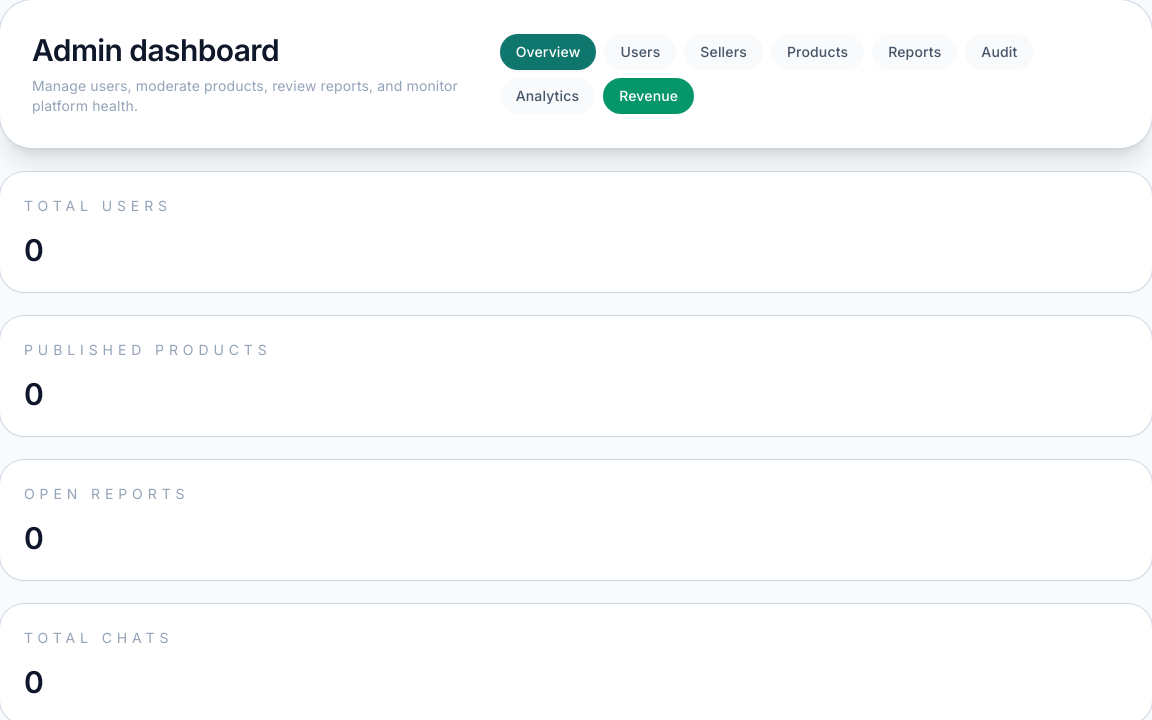
Test: AdminDashboardPage › renders a numbered first column in the users table
This screenshot has width=1152, height=720.
Click the button "Users".
click(640, 52)  # box [604,34,676,70]
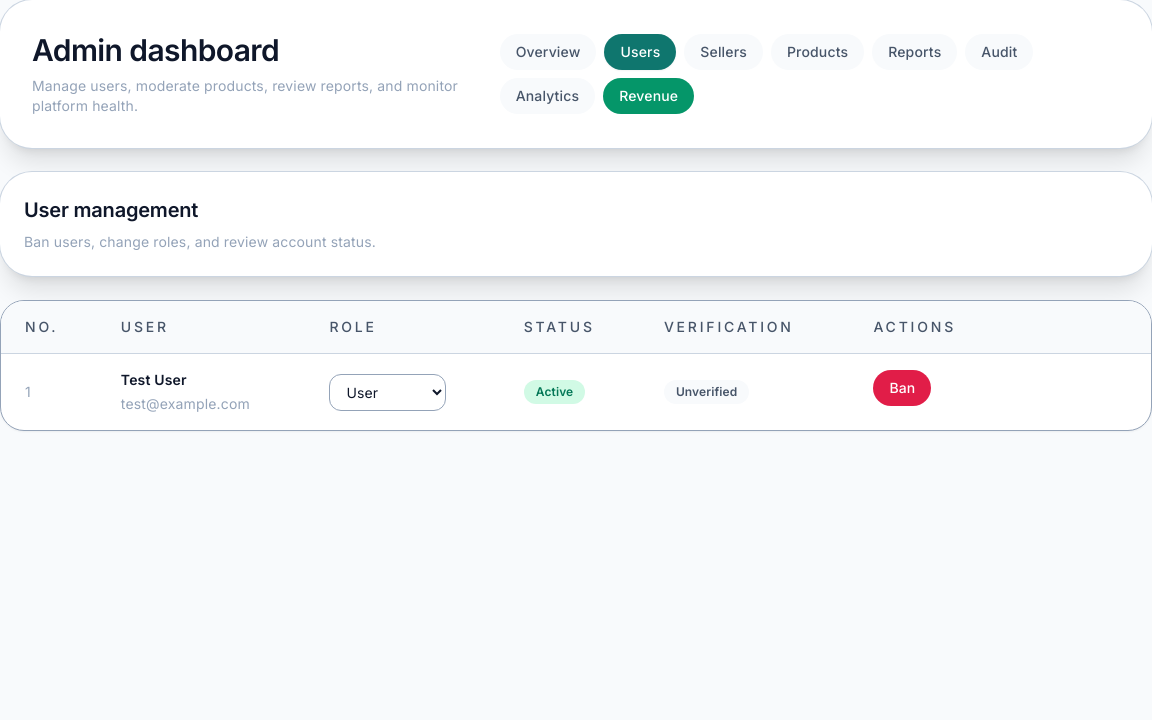
expect the column heading "No." is shown: met, box [1,301,97,354]
expect the text "Test User" is shown: met, box [121,371,187,388]
expect the text "1" is shown: met, box [1,354,97,430]
